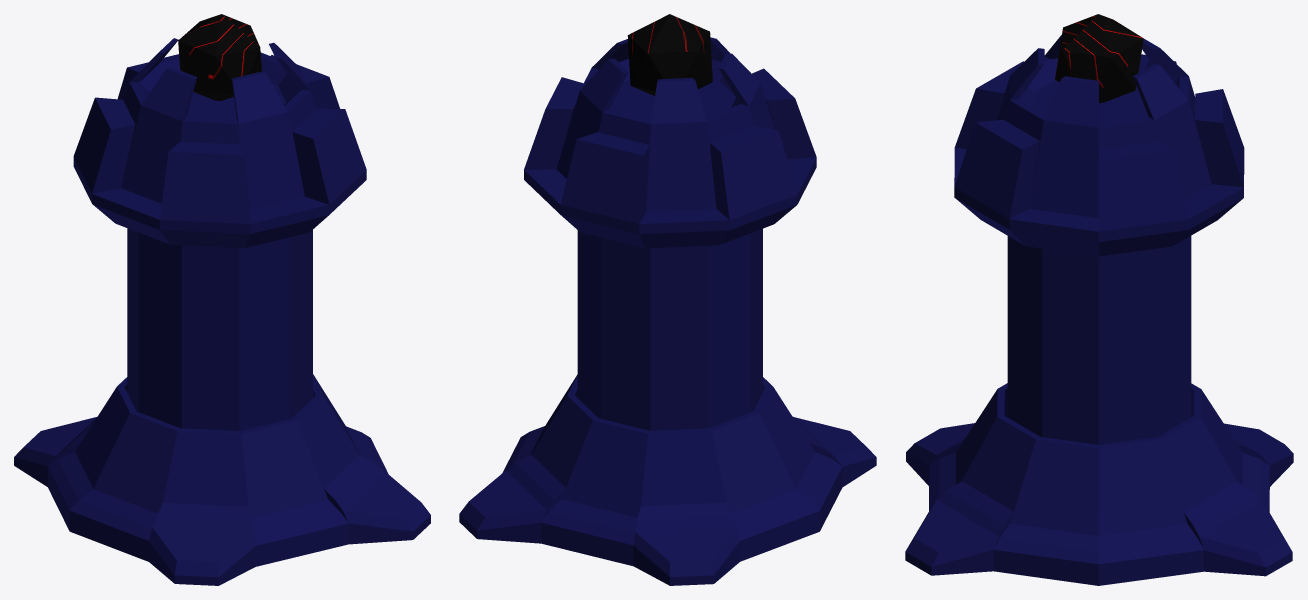
3 views of the same model, side by side, from view 1: azimuth 30°, elevation 25°; view 2: azimuth 150°, elevation 25°; view 3: azimuth 270°, elevation 25° (orthographic). The views are drawn at different scales.
Parts seen in each view (by area): view 1: pCylinder1, pPlatonic1; view 2: pCylinder1, pPlatonic1; view 3: pCylinder1, pPlatonic1.
Boxes of the visible parts, <box> form: pCylinder1: <box>14,38,430,585</box>; pPlatonic1: <box>178,14,261,100</box>; pCylinder1: <box>459,37,876,585</box>; pPlatonic1: <box>627,14,712,95</box>; pCylinder1: <box>905,35,1293,585</box>; pPlatonic1: <box>1055,14,1143,103</box>.
Size of the model in its own units: 3.2 by 4.9 by 3.47.
